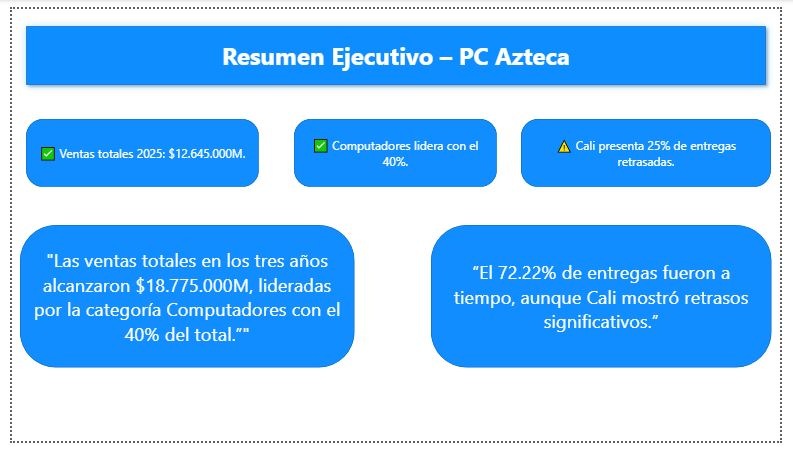

Layout of this report page (visuals, bound fields, positions):
{"tool":"powerbi","page":{"name":"Informe Ejecutivo","canvas":[1280,720],"ordinal":1},"visuals":[{"type":"shape","box":[11.7,16.7,1256.7,121.7],"z":0},{"type":"shape","box":[23.3,183.3,388.3,113.3],"z":2},{"type":"shape","box":[470,183.3,338.3,113.3],"z":3},{"type":"shape","box":[848.3,183.3,416.7,113.3],"z":4},{"type":"shape","box":[12.5,360,557.5,237.5],"z":5},{"type":"shape","box":[697.5,360,567.5,237.5],"z":6}]}

Visuals, with their boxes in screenshot pixels (x1, y1, x2, y2):
shape: [11,12,779,87]
shape: [18,114,256,183]
shape: [291,114,498,183]
shape: [522,114,777,183]
shape: [12,222,352,367]
shape: [430,222,777,367]
